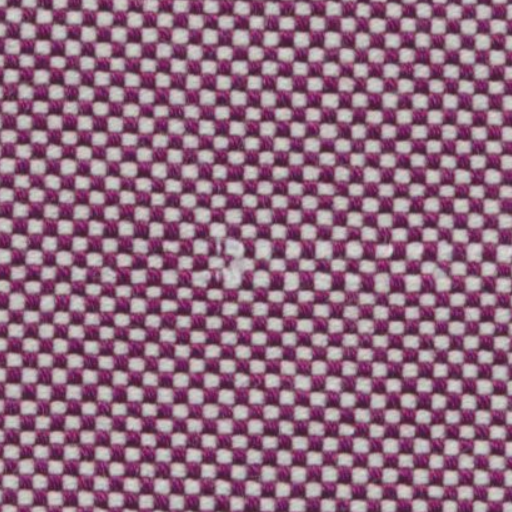TuoSha: (8, 230, 492, 338)
